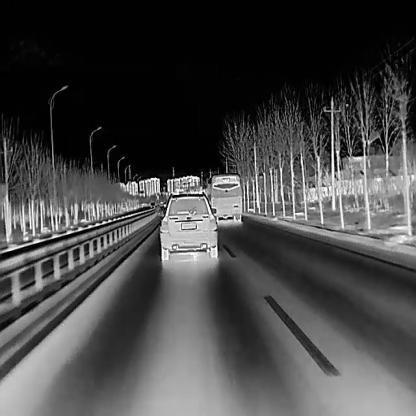car: (158, 190, 217, 260), (206, 172, 241, 221), (150, 201, 155, 207)
